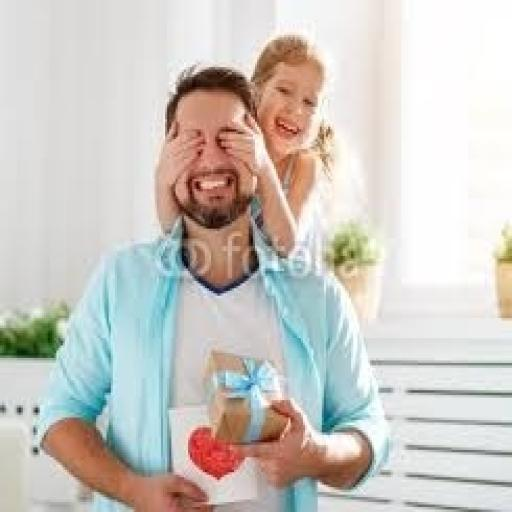hugging: (33, 60, 391, 510)
